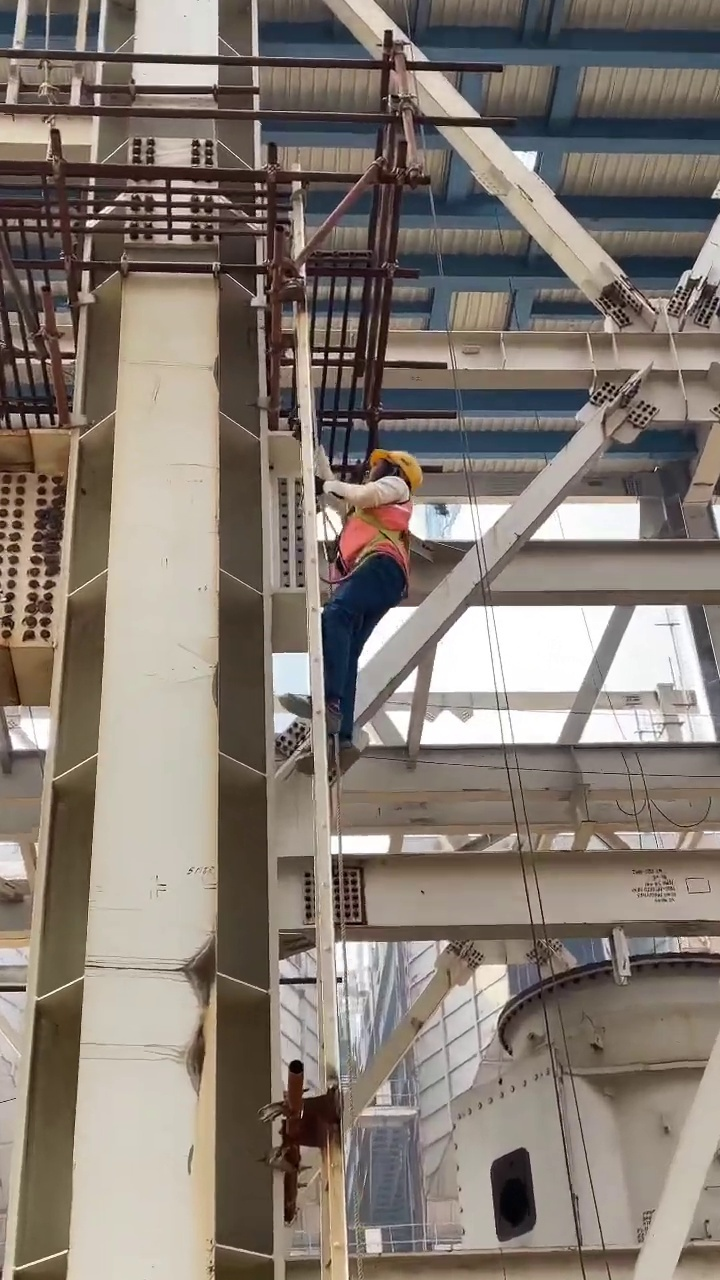Helmet: (370, 448, 424, 483)
Person: (277, 446, 425, 775)
Safety_Harness: (335, 504, 414, 574)
Safety_shoes: (277, 694, 340, 733), (296, 744, 363, 777)
